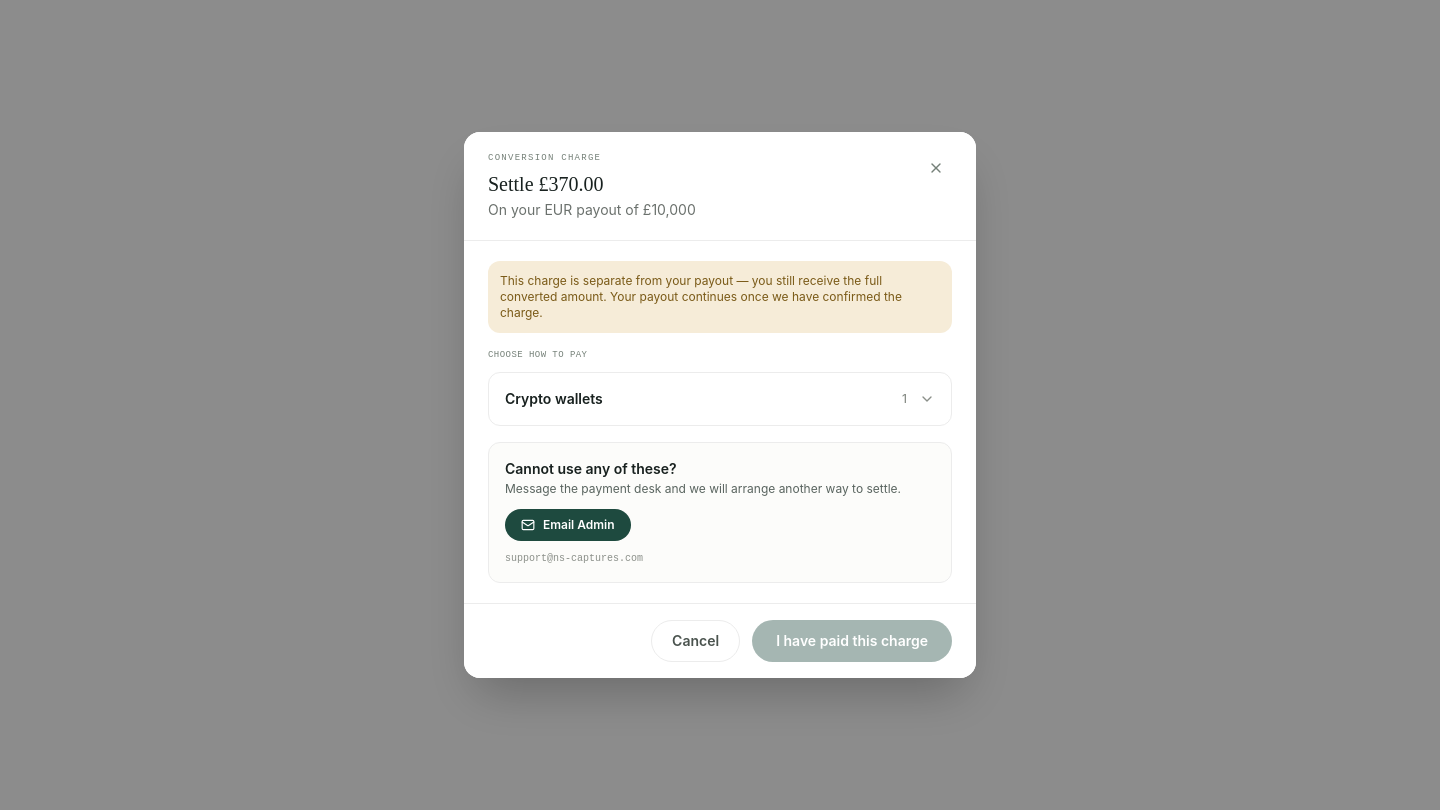
it: SettleChargeModal › shows the wallet address once its group is opened
Click the text "Crypto wallets" at (554, 398), box [505, 390, 603, 407]
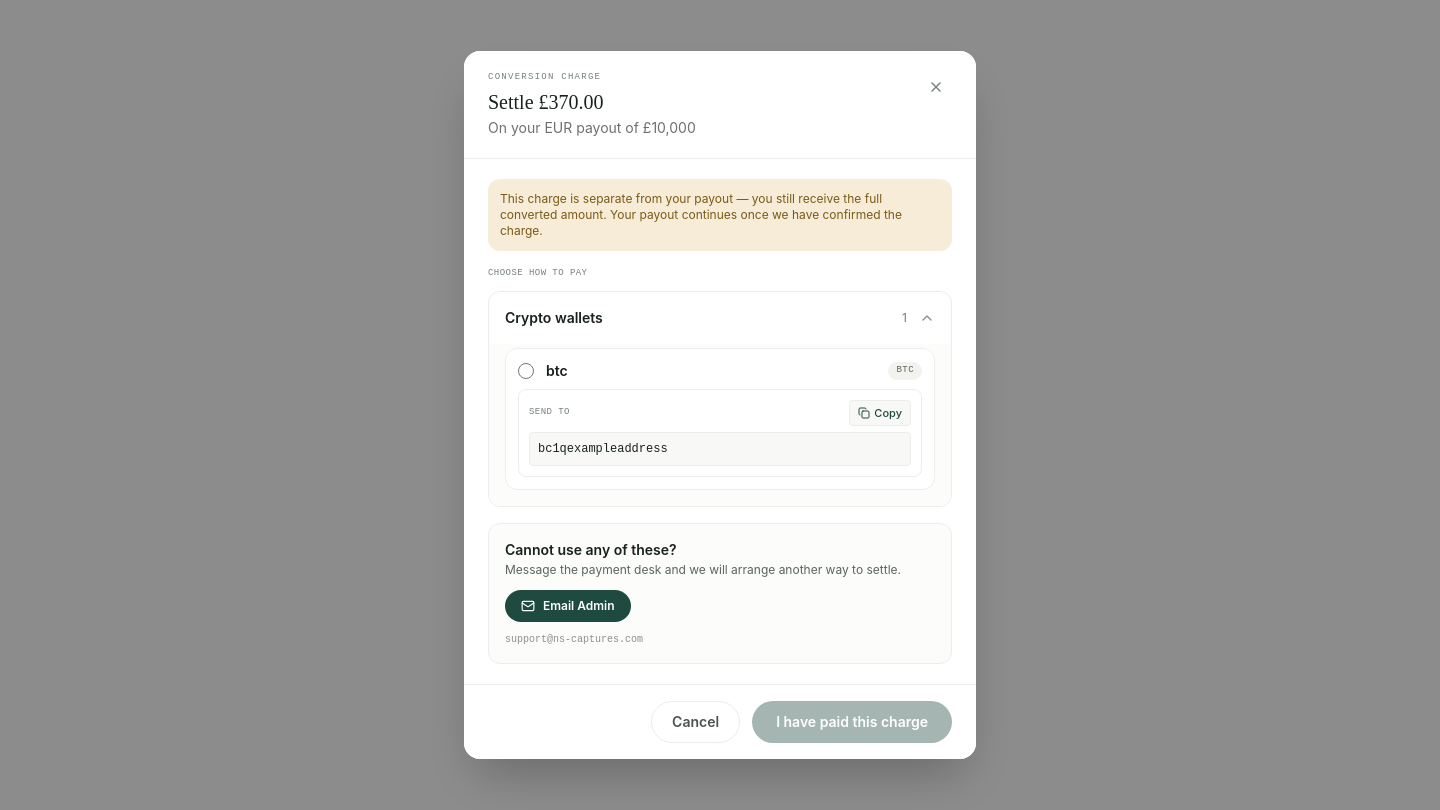
Result: the text "bc1qexampleaddress" is shown at [529, 432, 911, 466]
Result: the text "BTC" is shown at [888, 362, 922, 380]
